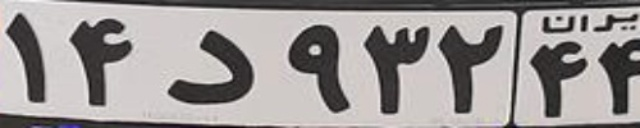1: (3, 13, 48, 103)
2: (436, 23, 506, 114)
3: (361, 24, 429, 114)
4: (66, 17, 133, 106), (527, 41, 588, 116), (597, 37, 638, 115)
9: (284, 23, 350, 114)
dal: (167, 28, 255, 106)
